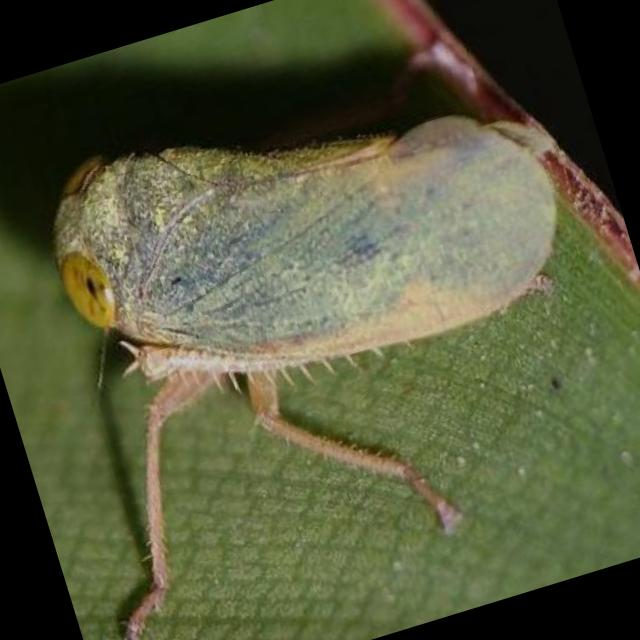green-leafhopper: (25, 32, 590, 436)
